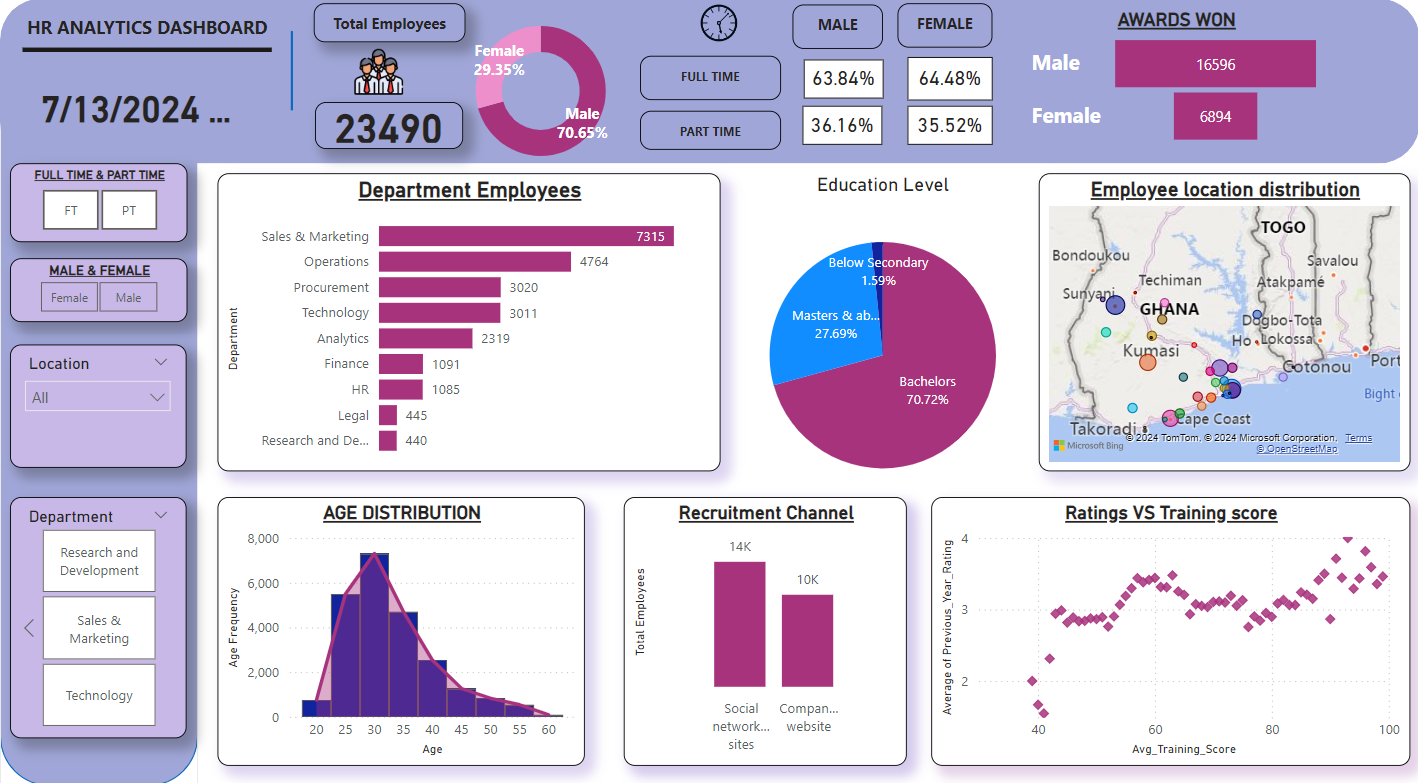

The dashboard page shown, as its layout file describes it:
{"tool":"powerbi","page":{"name":"Dashboard","canvas":[1280,720],"ordinal":7},"visuals":[{"type":"shape","box":[0,68.5,178.5,651.8],"z":0},{"type":"pieChart","title":"Education Level","fields":{"Category":["Table_1.Education"],"Y":["CountNonNull(Table_1.Education)"]},"box":[596.7,167.5,399.9,309.4],"z":1000},{"type":"shape","box":[0,9.8,1280.3,149.2],"z":2000},{"type":"textbox","box":[13.5,20.8,238.5,44],"z":3000},{"type":"card","fields":{"Values":["Measures_Table.Current_Date"]},"box":[29.3,64.8,185.9,85.6],"z":4000},{"type":"shape","box":[234.8,39.1,57.5,72.1],"z":5000},{"type":"textbox","box":[282.5,14.7,137,35.5],"z":6000},{"type":"image","box":[94.2,50.1,492.8,53.8],"z":7000},{"type":"card","fields":{"Values":["Measures_Table.Total_Emp"]},"box":[283.7,103.9,133.3,42.8],"z":8000},{"type":"shape","box":[20.8,46.5,225,20.8],"z":9000},{"type":"donutChart","fields":{"Category":["Table_1.Gender"],"Y":["CountNonNull(Table_1.EmpID)"]},"box":[362,9.8,251.9,167.5],"z":10000},{"type":"image","box":[509.9,6.1,277.6,53.8],"z":11000},{"type":"textbox","box":[577.2,62.4,127.2,40.4],"z":12000},{"type":"textbox","box":[577.2,111.3,127.2,35.5],"z":13000},{"type":"textbox","box":[714.1,15.9,81.9,40.4],"z":14000},{"type":"textbox","box":[809.5,14.7,85.6,40.4],"z":15000},{"type":"card","fields":{"Values":["Measures_Table.male_ft"]},"box":[725.1,64.8,72.1,35.5],"z":16000},{"type":"card","fields":{"Values":["Measures_Table.male_pt"]},"box":[723.9,107.6,72.1,35.5],"z":17000},{"type":"card","fields":{"Values":["Measures_Table.female_ft"]},"box":[818.1,63.6,77,39.1],"z":18000},{"type":"card","fields":{"Values":["Measures_Table.female_pt"]},"box":[818.1,107.6,77,35.5],"z":19000},{"type":"clusteredBarChart","title":"Department Employees","fields":{"Category":["Table_1.Department"],"Y":["CountNonNull(Table_1.EmpID)"]},"box":[195.7,167.5,453.7,269],"z":20000},{"type":"map","title":"Employee location distribution","fields":{"Category":["Table_1.Location"],"Series":["Table_1.Location"],"Size":["CountNonNull(Table_1.Location)"]},"box":[936.7,167.5,335.1,269],"z":21000},{"type":"slicer","title":"FULL TIME & PART TIME","fields":{"Values":["Table_1.FT/PT"]},"box":[8.6,159,160.2,70.9],"z":22000},{"type":"slicer","title":"MALE & FEMALE","fields":{"Values":["Table_1.Gender"]},"box":[8.6,244.6,160.2,57.5],"z":23000},{"type":"slicer","fields":{"Values":["Table_1.Location"]},"box":[8.6,322.8,159,111.3],"z":24000},{"type":"slicer","fields":{"Values":["Table_1.Department"]},"box":[8.6,459.8,159,217.7],"z":25000},{"type":"lineClusteredColumnComboChart","title":"AGE DISTRIBUTION","fields":{"Category":["Table_1.Age (bins)"],"Y":["CountNonNull(Table_1.Age)"],"Y2":["CountNonNull(Table_1.Age)"]},"box":[195.7,459.8,331.4,242.1],"z":26000},{"type":"funnel","title":"AWARDS WON","fields":{"Y":["CountNonNull(Table_1.Awards_Won)"],"Category":["Table_1.Gender"]},"box":[925.7,19.6,271.5,128.4],"z":27000},{"type":"columnChart","title":"Recruitment Channel","fields":{"Category":["Table_1.Recruitment_Channell"],"Y":["CountNonNull(Table_1.EmpID)"]},"box":[562.5,459.8,255.6,242.1],"z":28000},{"type":"scatterChart","title":"Ratings VS Training score","fields":{"Y":["Avg(Table_1.Previous_Year_Rating)"],"X":["Table_1.Avg_Training_Score"]},"box":[840.1,459.8,431.7,242.1],"z":29000}]}

Visuals, with their boxes in screenshot pixels (x1, y1, x2, y2), scaled from the page's 1280x720 canvas onto the 1418x783 screenshot:
shape: region(0, 74, 198, 782)
"Education Level" pieChart: region(661, 182, 1104, 519)
shape: region(0, 11, 1417, 173)
textbox: region(15, 23, 279, 70)
card - Measures_Table.Current_Date: region(32, 70, 238, 164)
shape: region(260, 43, 324, 121)
textbox: region(313, 16, 465, 55)
image: region(104, 54, 650, 113)
card - Measures_Table.Total_Emp: region(314, 113, 462, 160)
shape: region(23, 51, 272, 73)
donutChart - Table_1.Gender x CountNonNull(Table_1.EmpID): region(401, 11, 680, 193)
image: region(565, 7, 872, 65)
textbox: region(639, 68, 780, 112)
textbox: region(639, 121, 780, 160)
textbox: region(791, 17, 882, 61)
textbox: region(897, 16, 992, 60)
card - Measures_Table.male_ft: region(803, 70, 883, 109)
card - Measures_Table.male_pt: region(802, 117, 882, 156)
card - Measures_Table.female_ft: region(906, 69, 992, 112)
card - Measures_Table.female_pt: region(906, 117, 992, 156)
"Department Employees" clusteredBarChart: region(217, 182, 719, 475)
"Employee location distribution" map: region(1038, 182, 1409, 475)
"FULL TIME & PART TIME" slicer: region(10, 173, 187, 250)
"MALE & FEMALE" slicer: region(10, 266, 187, 329)
slicer - Table_1.Location: region(10, 351, 186, 472)
slicer - Table_1.Department: region(10, 500, 186, 737)
"AGE DISTRIBUTION" lineClusteredColumnComboChart: region(217, 500, 584, 763)
"AWARDS WON" funnel: region(1026, 21, 1326, 161)
"Recruitment Channel" columnChart: region(623, 500, 906, 763)
"Ratings VS Training score" scatterChart: region(931, 500, 1409, 763)
